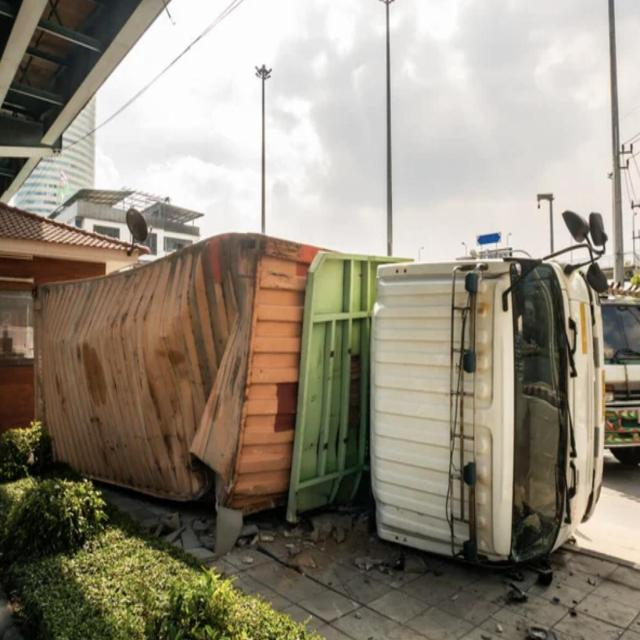accident: (25, 222, 611, 576)
